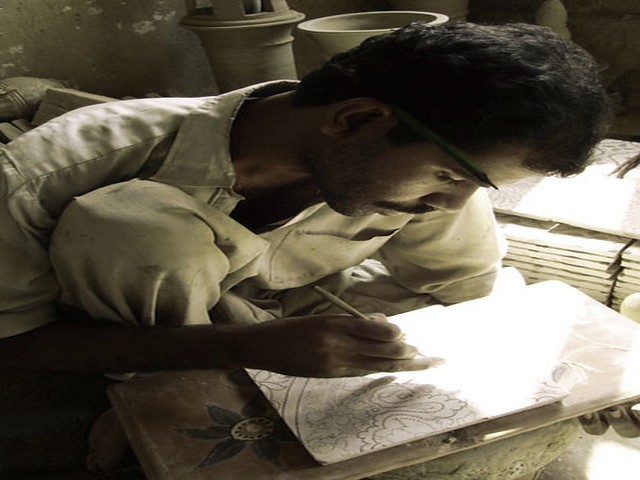Person: (7, 20, 623, 305)
